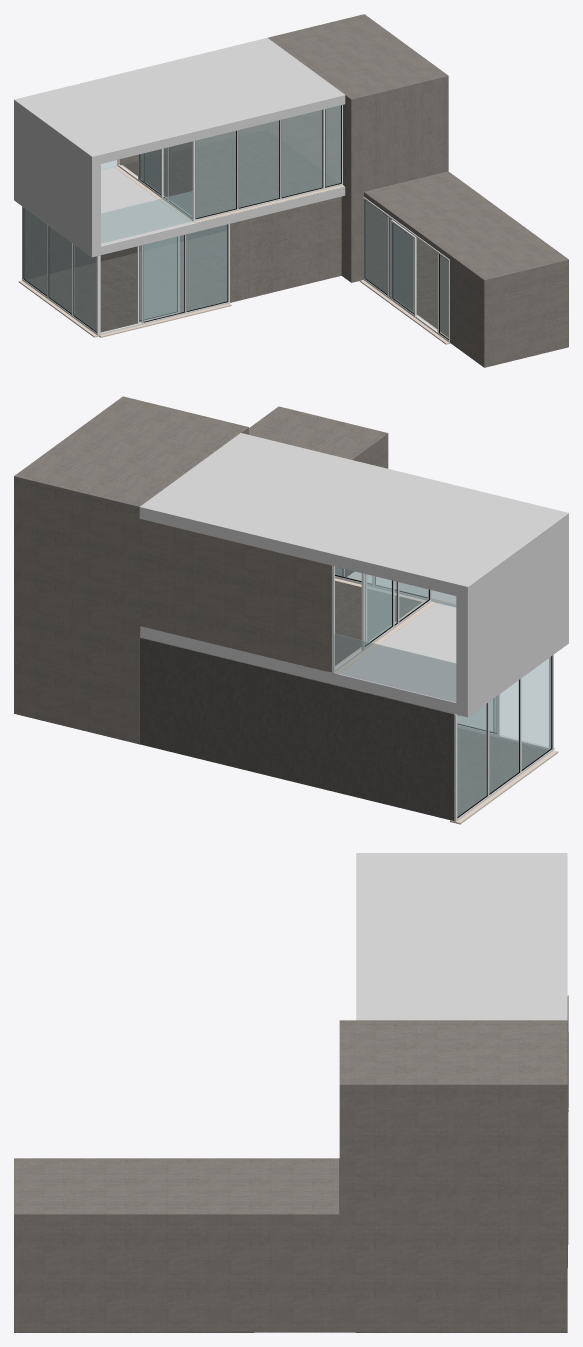
The model's file is home2.gltf.
The picture shows the model from 3 angles, top to bottom: view 1: azimuth 30°, elevation 25°; view 2: azimuth 150°, elevation 25°; view 3: azimuth 270°, elevation 25°; orthographic projection. The views are drawn at different scales.
Visible parts, largest first — view 1: home_side, home_upper, Window.002, home_lower, home_lower_floor, Window, Window.004, Window.001, Window.003, home_rail_front; view 2: home_side, home_upper, home_lower, Window.001, home_rail_back, Window.003, home_lower_floor, Window, Window.002; view 3: home_side, home_upper.
Boxes of the visible parts, <box> form: home_side: <box>119,14,568,367</box>; home_upper: <box>14,38,345,257</box>; Window.002: <box>193,105,344,222</box>; home_lower: <box>24,196,341,302</box>; home_lower_floor: <box>26,231,227,332</box>; Window: <box>99,224,231,337</box>; Window.004: <box>359,197,450,344</box>; Window.001: <box>18,206,98,337</box>; Window.003: <box>114,141,193,221</box>; home_rail_front: <box>101,191,193,243</box>; home_side: <box>14,396,388,744</box>; home_upper: <box>139,433,568,717</box>; home_lower: <box>140,637,454,820</box>; Window.001: <box>450,654,558,824</box>; home_rail_back: <box>334,634,456,702</box>; Window.003: <box>327,565,435,674</box>; home_lower_floor: <box>457,728,548,816</box>; Window: <box>457,657,554,749</box>; Window.002: <box>335,566,433,601</box>; home_side: <box>14,1020,567,1332</box>; home_upper: <box>356,853,567,1020</box>.
Size of the model in its own units: 12.2 by 6.13 by 12.35.
9 materials, 4 textured.
